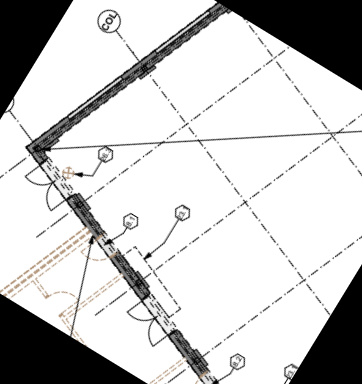double door: (12, 156, 79, 218), (116, 295, 179, 352)
window: (146, 0, 224, 74), (59, 58, 128, 135)
